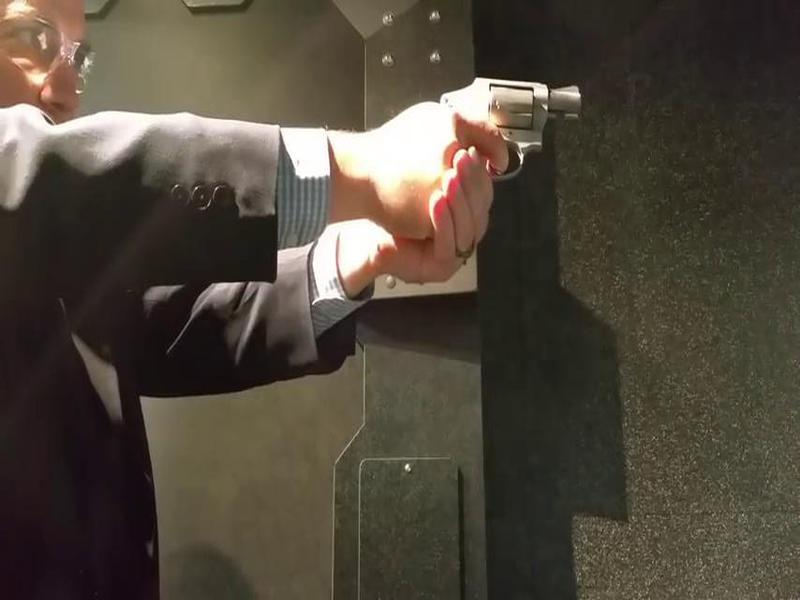Revolver: (424, 64, 601, 188)
